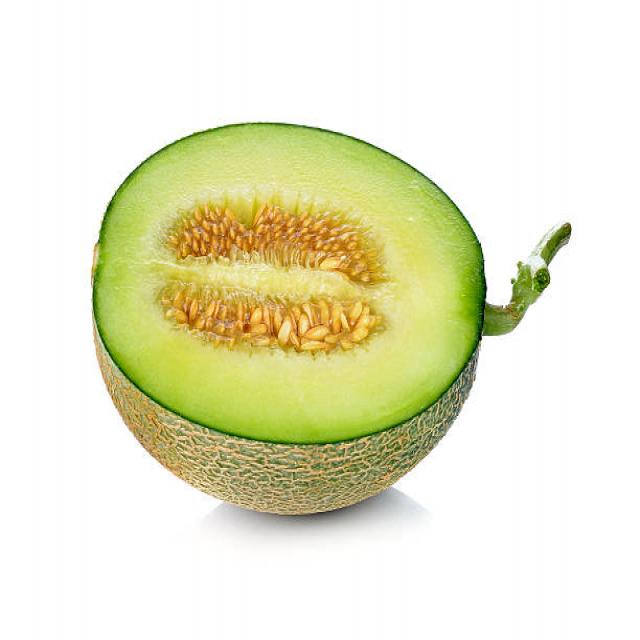Melon: (82, 108, 513, 521)
